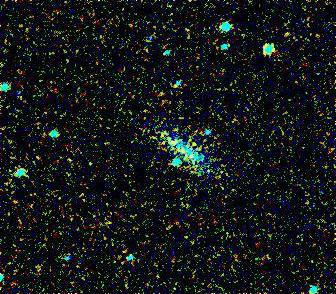star: (272, 19, 302, 49)
